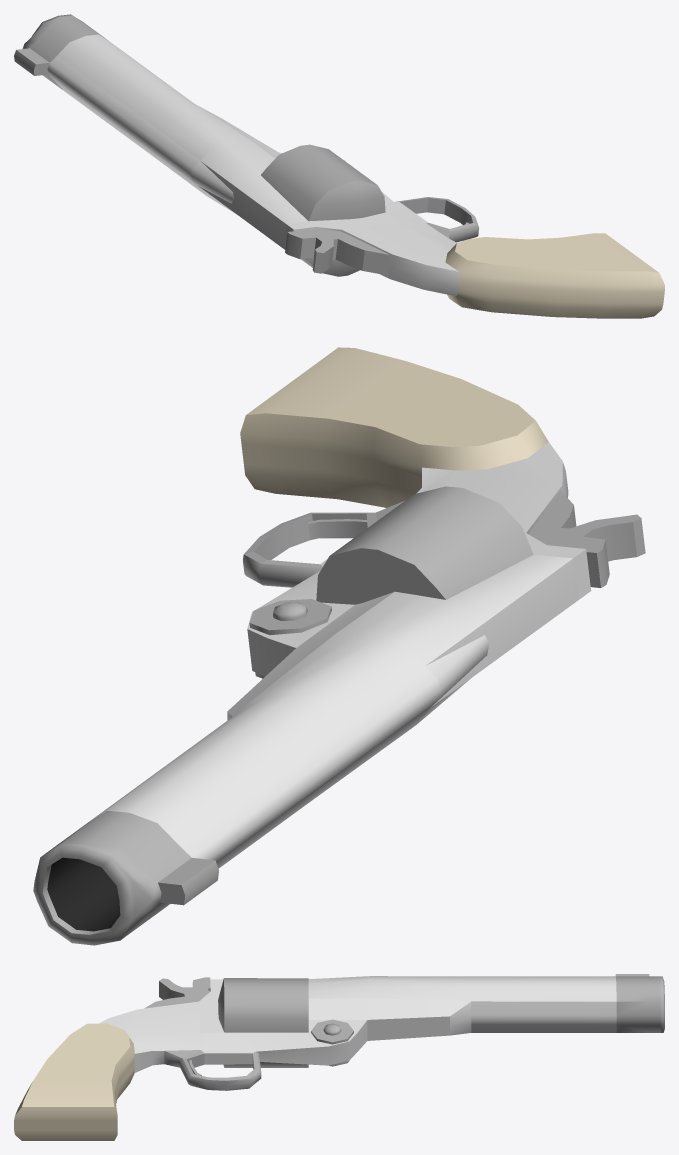
File: Revolver2.fbx
3 views of the same model, one above another, from view 1: azimuth 30°, elevation 25°; view 2: azimuth 150°, elevation 25°; view 3: azimuth 270°, elevation 25° (orthographic). The views are drawn at different scales.
Visible parts, largest first — view 1: polySurface7; view 2: polySurface7; view 3: polySurface7.
Boxes of the visible parts, left/top/right/bottom form: polySurface7: left=14, top=14, right=664, bottom=318; polySurface7: left=33, top=347, right=645, bottom=945; polySurface7: left=14, top=974, right=664, bottom=1140.
Bounding box in the file's own units: 18.12 × 5.79 × 42.86.
